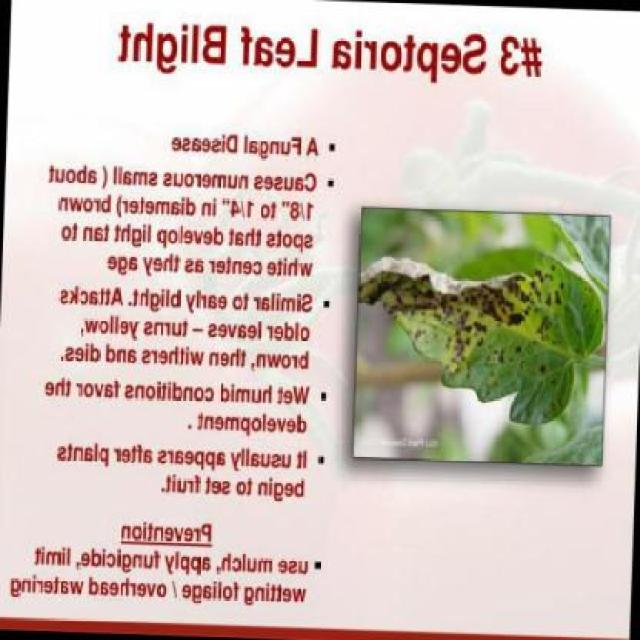Septoria leaf spot: (359, 250, 601, 441)
